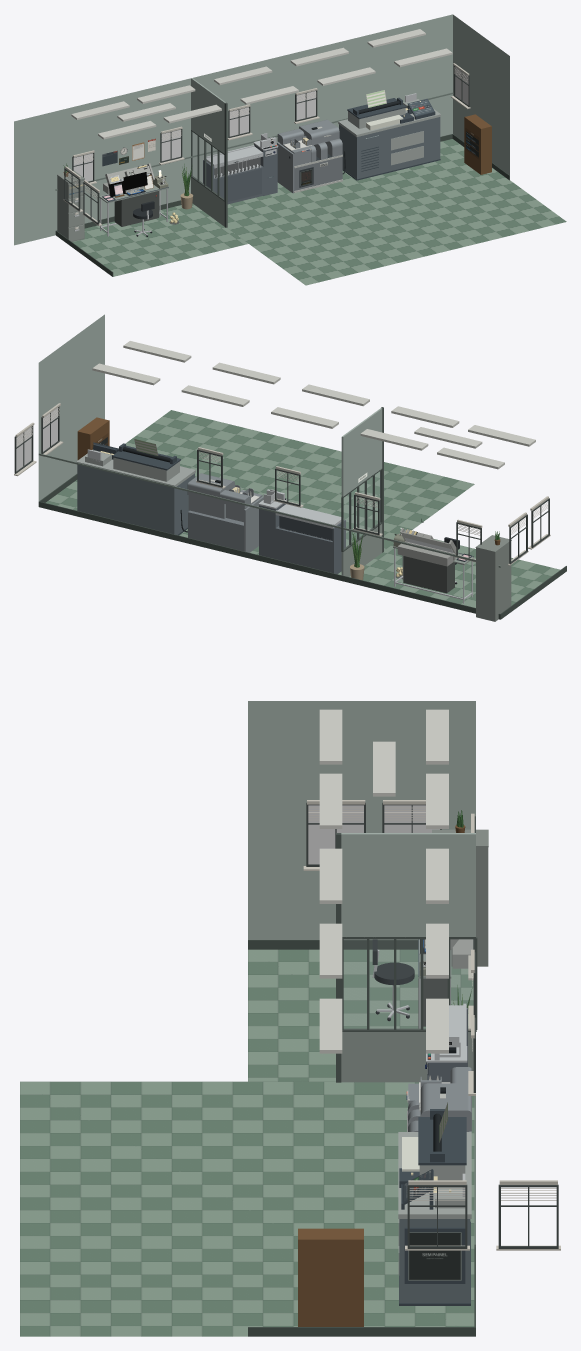
The model's file is sala-completa.glb.
3 renders of one model, top to bottom at view 1: azimuth 30°, elevation 25°; view 2: azimuth 150°, elevation 25°; view 3: azimuth 270°, elevation 25°, orthographic. The views are drawn at different scales.
Visible parts, largest first — view 1: sala-completa_peca_242, sala-completa_peca_3, sala-completa_peca_240, sala-completa_peca_5, sala-completa_peca_241, 407-contabilizadora_peca_0, sala-completa_peca_299, sala-completa_peca_302, 083-classificadora_peca_6, sala-completa_peca_291, sala-completa_peca_112, 514-reprodutora_peca_0 (+28 smaller); view 2: sala-completa_peca_242, sala-completa_peca_241, 407-contabilizadora_peca_0, sala-completa_peca_5, sala-completa_peca_128, sala-completa_peca_299, sala-completa_peca_256, 083-classificadora_peca_0, 514-reprodutora_peca_0, sala-completa_peca_112, sala-completa_peca_291, sala-completa_peca_289 (+29 smaller); view 3: sala-completa_peca_242, sala-completa_peca_4, sala-completa_peca_5, sala-completa_peca_299, sala-completa_peca_291, sala-completa_peca_302, sala-completa_peca_289, 407-contabilizadora_peca_0, painel_cp407, sala-completa_peca_257, 407-contabilizadora_peca_15, 407-contabilizadora_peca_2 (+17 smaller).
Boxes of the visible parts, bbox=[...] form: sala-completa_peca_242: bbox=[227, 139, 566, 285]; sala-completa_peca_3: bbox=[14, 68, 233, 245]; sala-completa_peca_240: bbox=[233, 14, 452, 149]; sala-completa_peca_5: bbox=[72, 203, 248, 276]; sala-completa_peca_241: bbox=[453, 14, 509, 175]; 407-contabilizadora_peca_0: bbox=[339, 117, 440, 179]; sala-completa_peca_299: bbox=[191, 78, 225, 153]; sala-completa_peca_302: bbox=[464, 114, 491, 174]; 083-classificadora_peca_6: bbox=[215, 168, 261, 201]; sala-completa_peca_291: bbox=[192, 132, 223, 198]; sala-completa_peca_112: bbox=[114, 191, 158, 226]; 514-reprodutora_peca_0: bbox=[294, 156, 342, 190]; sala-completa_peca_242: bbox=[45, 410, 474, 574]; sala-completa_peca_241: bbox=[38, 314, 104, 501]; 407-contabilizadora_peca_0: bbox=[77, 464, 194, 534]; sala-completa_peca_5: bbox=[349, 539, 560, 607]; sala-completa_peca_128: bbox=[476, 541, 511, 621]; sala-completa_peca_299: bbox=[341, 408, 382, 496]; sala-completa_peca_256: bbox=[38, 501, 342, 580]; 083-classificadora_peca_0: bbox=[275, 526, 332, 572]; 514-reprodutora_peca_0: bbox=[188, 510, 243, 551]; sala-completa_peca_112: bbox=[403, 556, 454, 593]; sala-completa_peca_291: bbox=[344, 471, 380, 548]; sala-completa_peca_289: bbox=[341, 524, 382, 576]; sala-completa_peca_242: bbox=[20, 1081, 474, 1336]; sala-completa_peca_4: bbox=[248, 701, 475, 939]; sala-completa_peca_5: bbox=[248, 949, 473, 1081]; sala-completa_peca_299: bbox=[341, 833, 475, 936]; sala-completa_peca_291: bbox=[344, 940, 473, 1028]; sala-completa_peca_302: bbox=[298, 1228, 363, 1326]; sala-completa_peca_289: bbox=[341, 1032, 473, 1082]; 407-contabilizadora_peca_0: bbox=[399, 1219, 470, 1303]; painel_cp407: bbox=[408, 1232, 461, 1280]; sala-completa_peca_257: bbox=[248, 1327, 475, 1336]; 407-contabilizadora_peca_15: bbox=[418, 1117, 466, 1165]; 407-contabilizadora_peca_2: bbox=[398, 1132, 471, 1218].
Size of the model in its own units: 400 by 108 by 214.
Materials: 389 (122 with a texture image).
